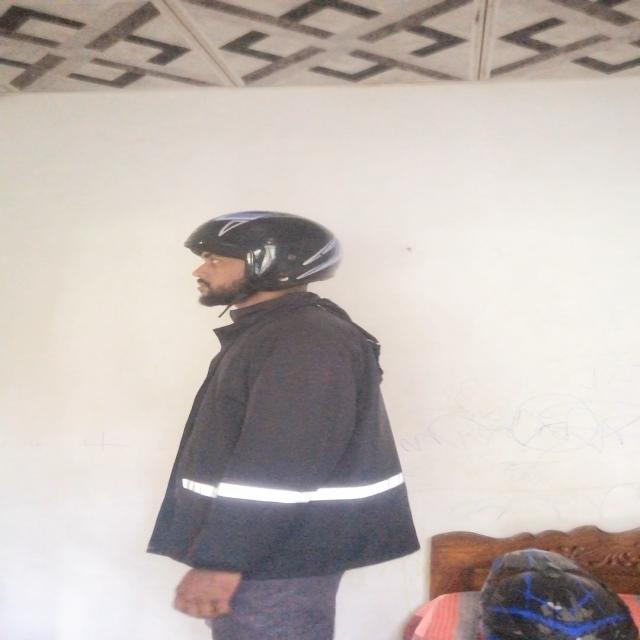Helmet_Wearer: (148, 200, 341, 312)
Jacket_Wearer: (151, 285, 437, 579)
Person: (111, 189, 437, 634)
